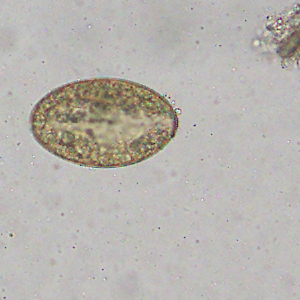Fasciola_hepatica_egg: (26, 76, 181, 170)
